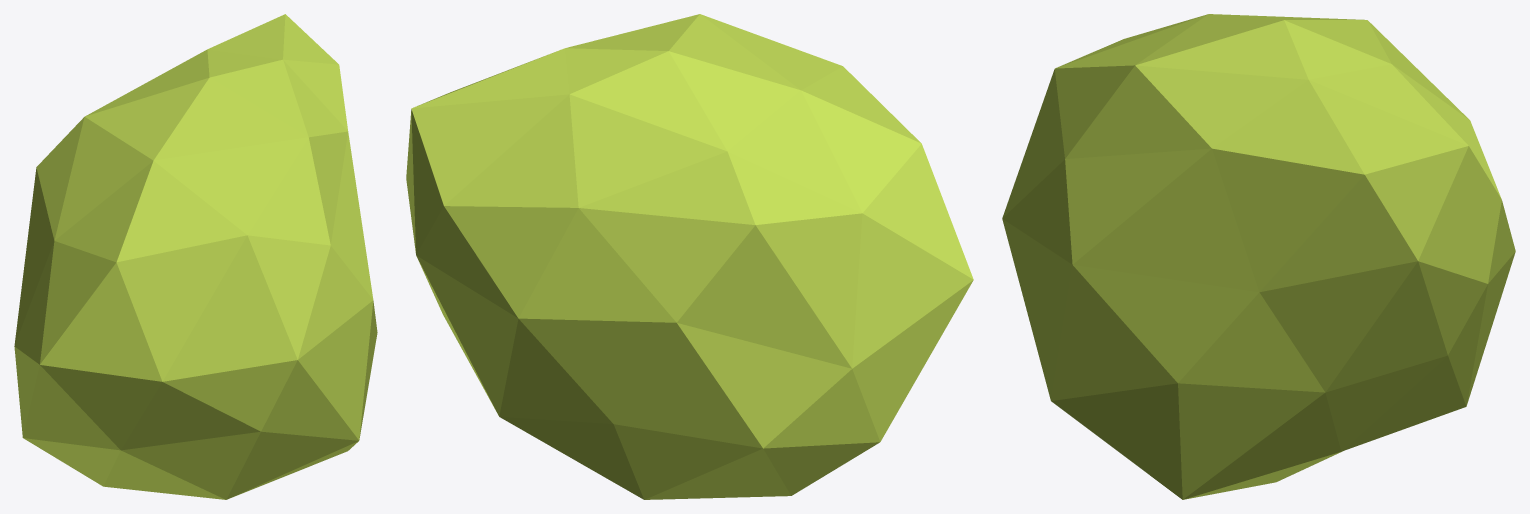
File: Rock1.obj
The picture shows the model from 3 angles, left to right: view 1: azimuth 30°, elevation 25°; view 2: azimuth 150°, elevation 25°; view 3: azimuth 270°, elevation 25°; orthographic projection. The views are drawn at different scales.
Visible parts, largest first — view 1: GeoSphere001; view 2: GeoSphere001; view 3: GeoSphere001.
Part boxes in pixels (x1,y1,x2,y2): GeoSphere001: [14, 14, 377, 499]; GeoSphere001: [406, 14, 973, 499]; GeoSphere001: [1002, 14, 1515, 499].
Bounding box in the file's own units: 2.13 × 2 × 2.
